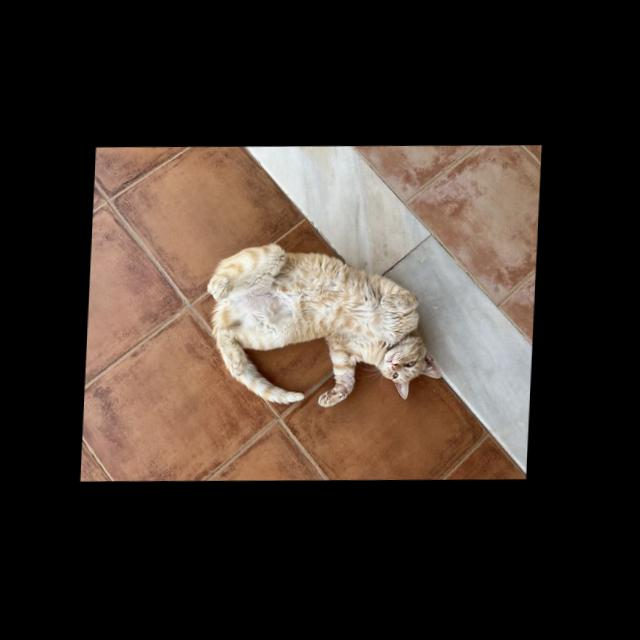animals: (203, 240, 448, 413)
